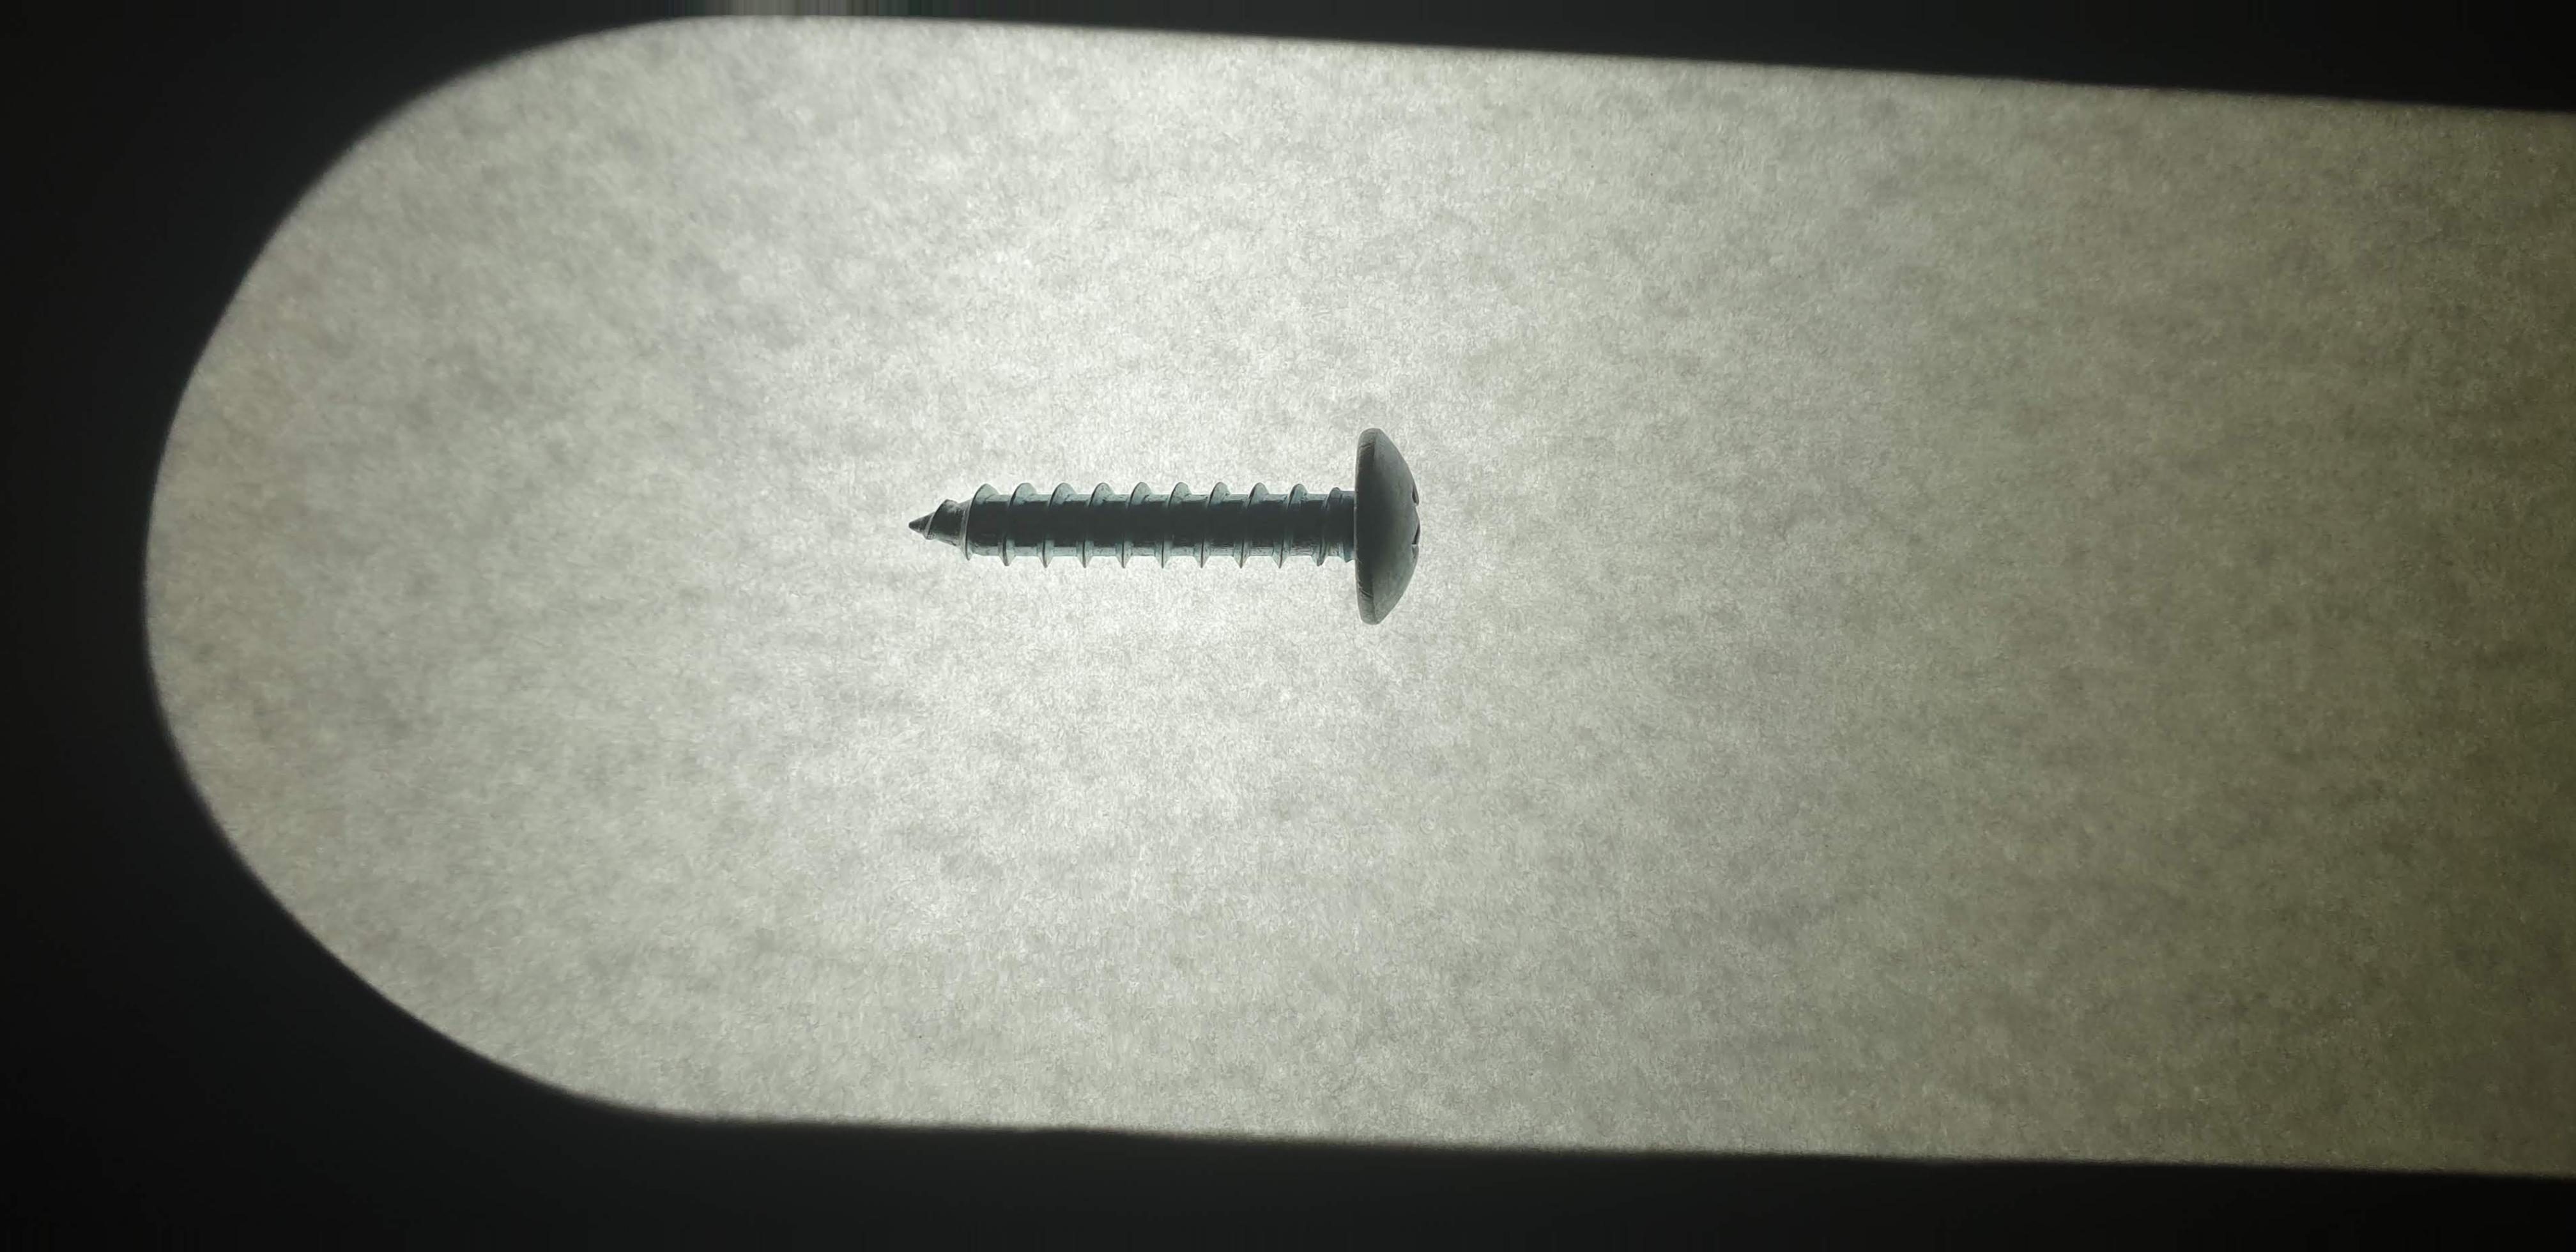S002: (877, 399, 1492, 652)
